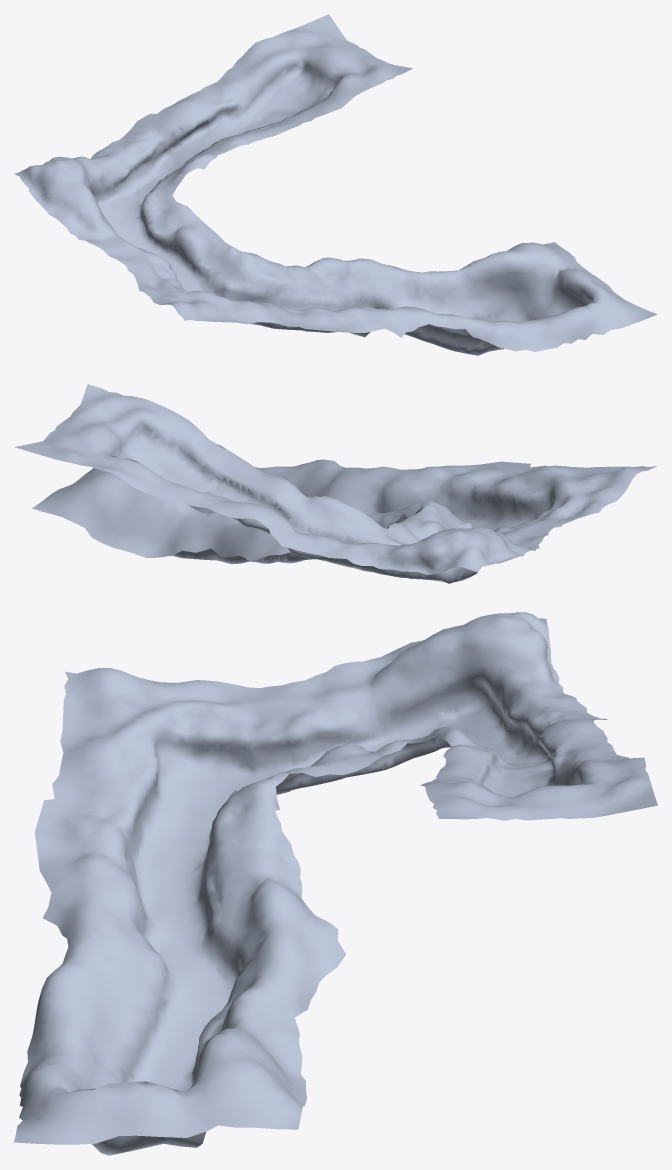
Rendered from level0.glb.
3 renders of one model, top to bottom at view 1: azimuth 30°, elevation 25°; view 2: azimuth 150°, elevation 25°; view 3: azimuth 270°, elevation 25°, orthographic. The views are drawn at different scales.
Visible parts, largest first — view 1: ground-col; view 2: ground-col; view 3: ground-col.
Part boxes in pixels (x1=…): ground-col: x1=14, y1=14, x2=657, y2=355; ground-col: x1=14, y1=384, x2=657, y2=583; ground-col: x1=14, y1=612, x2=657, y2=1155.
Bounding box in the file's own units: 1749 × 756 × 1392.
